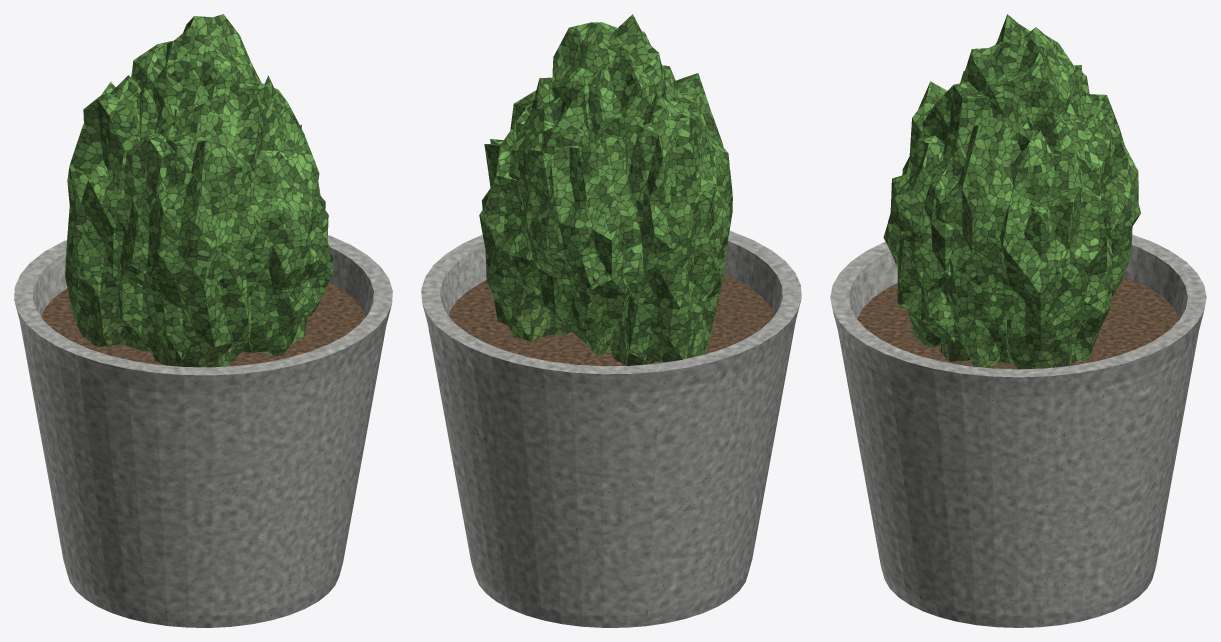
The picture shows the model from 3 angles, left to right: view 1: azimuth 30°, elevation 25°; view 2: azimuth 150°, elevation 25°; view 3: azimuth 270°, elevation 25°; orthographic projection.
Visible parts, largest first — view 1: baseOffset=0;diameter=1;height=0.8;material=concrete;power=; (×3); view 2: baseOffset=0;diameter=1;height=0.8;material=concrete;power=; (×3); view 3: baseOffset=0;diameter=1;height=0.8;material=concrete;power=; (×3).
Part boxes in pixels (left/top/right/bottom): baseOffset=0;diameter=1;height=0.8;material=concrete;power=; (×3): left=14, top=14, right=392, bottom=627; baseOffset=0;diameter=1;height=0.8;material=concrete;power=; (×3): left=421, top=14, right=801, bottom=627; baseOffset=0;diameter=1;height=0.8;material=concrete;power=; (×3): left=830, top=14, right=1206, bottom=627.
Bounding box in the file's own units: 1 × 1 × 1.61.
Materials: 3 (3 with a texture image).
